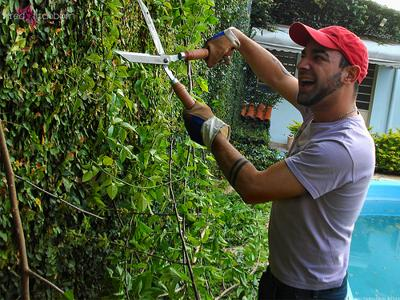person: (182, 22, 378, 299)
